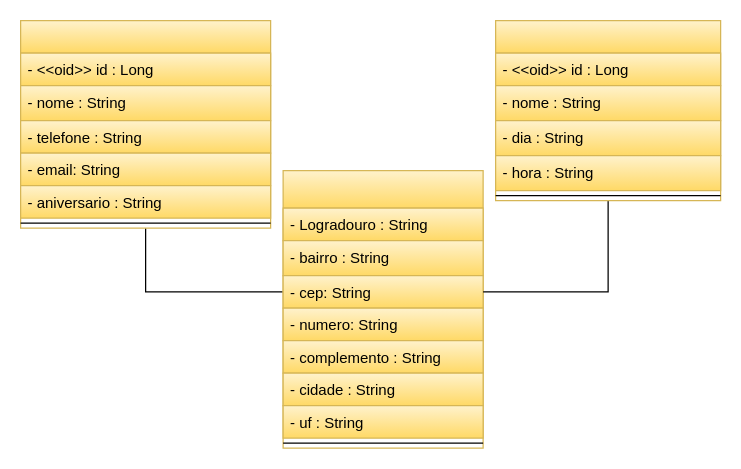
Some shapes in this 741 by 469 pixel diagram are drawn without their labels. Here are the shapes that lost their labels. From the top down, the box of each, then its label:
(19, 19, 271, 228): Membro
(494, 19, 721, 201): Pgm
(282, 169, 483, 448): Endereco
